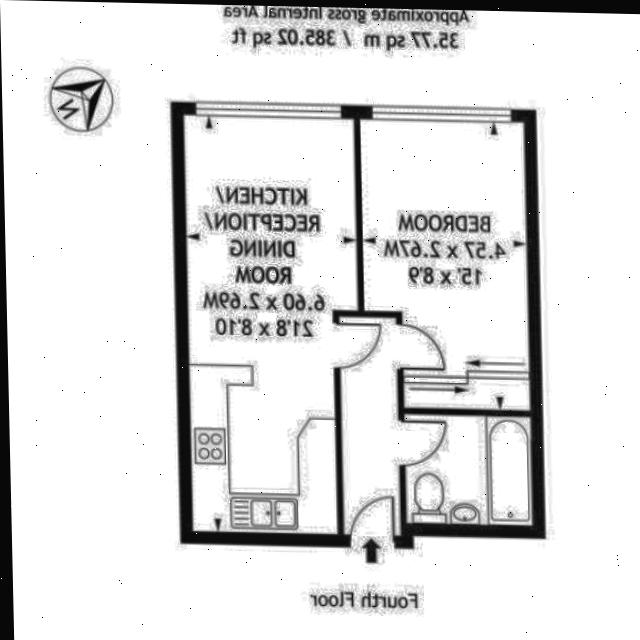room: (185, 112, 362, 537), (361, 116, 529, 412), (403, 415, 535, 526), (340, 317, 401, 536)
